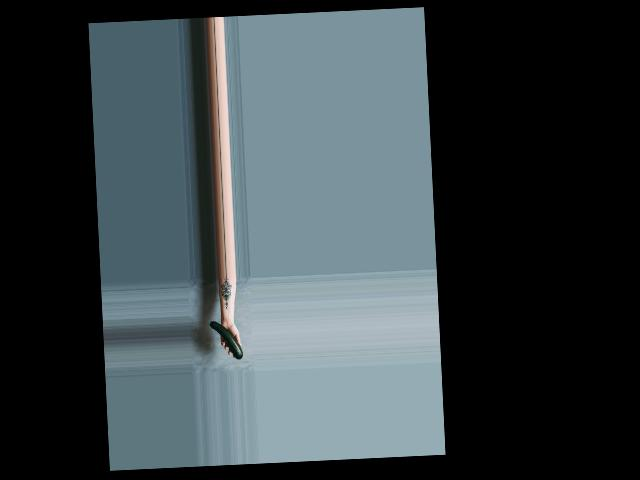cucumber: (209, 320, 242, 361)
